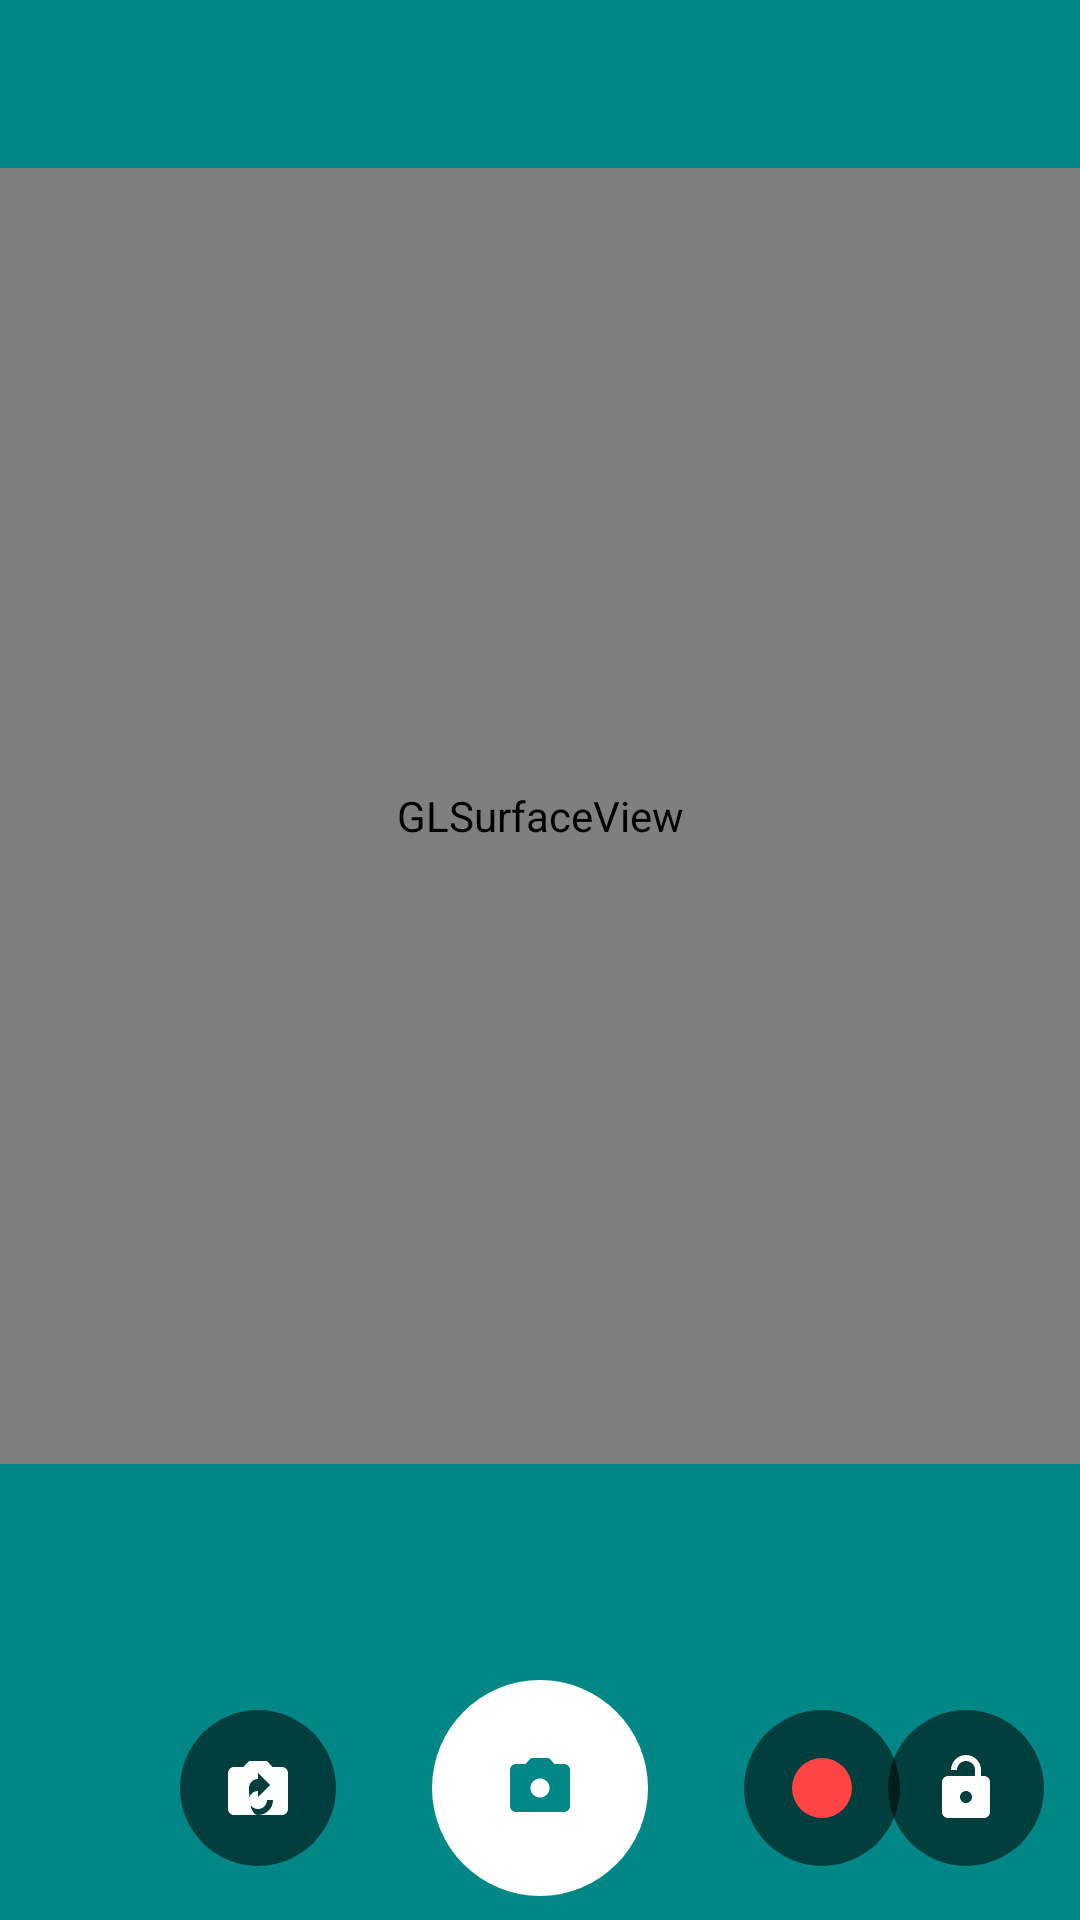

Icons on this 1080px×1920px Android screen, each with its box as [x1,y1,x2,y2]:
Lock Exposure: [888,1710,1044,1866]
Record Video: [744,1710,900,1866]
Switch Camera: [180,1710,336,1866]
Take Photo: [432,1680,648,1896]
